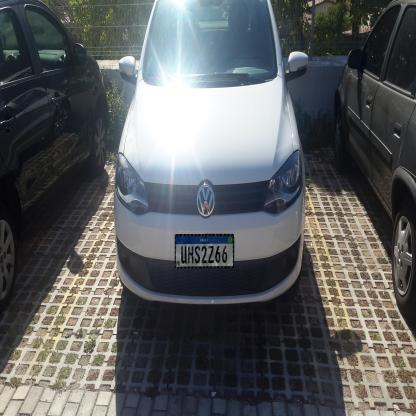PlacaM: (175, 234, 234, 268)
